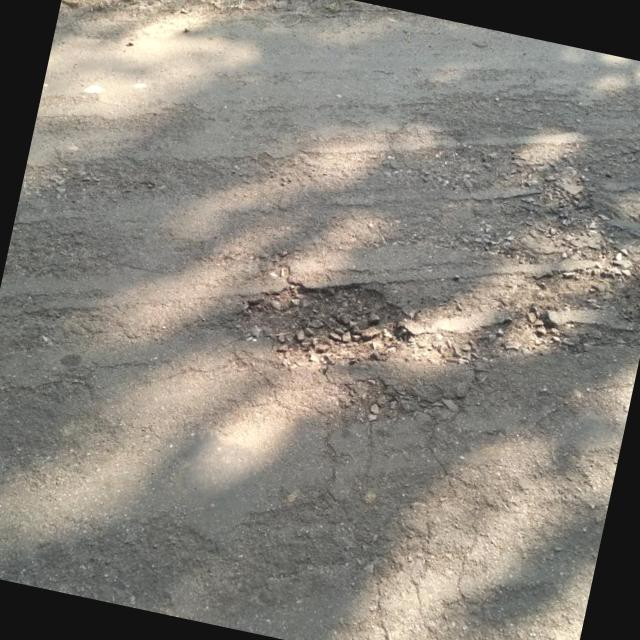Lubang: (234, 256, 410, 368)
